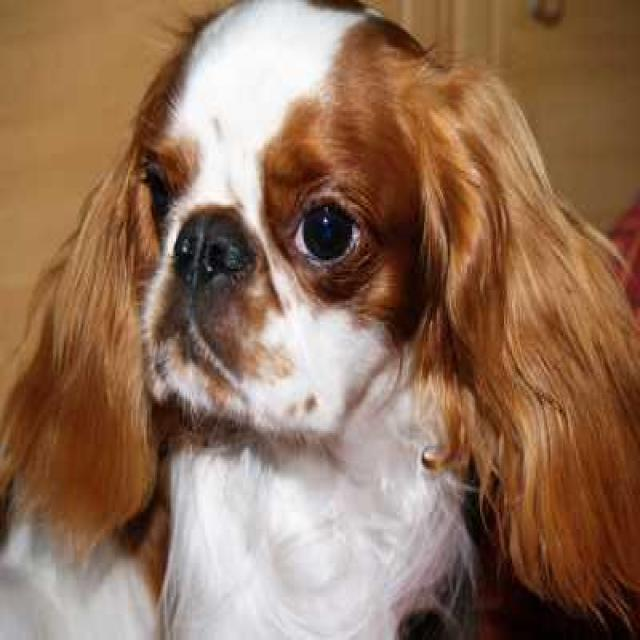blenheim_spaniel: (1, 2, 638, 638)
